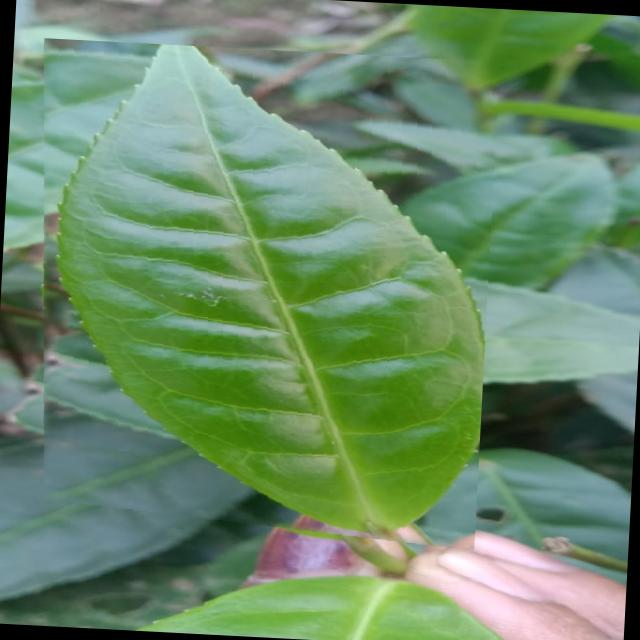Category B(2-4 days): (17, 38, 500, 552)
